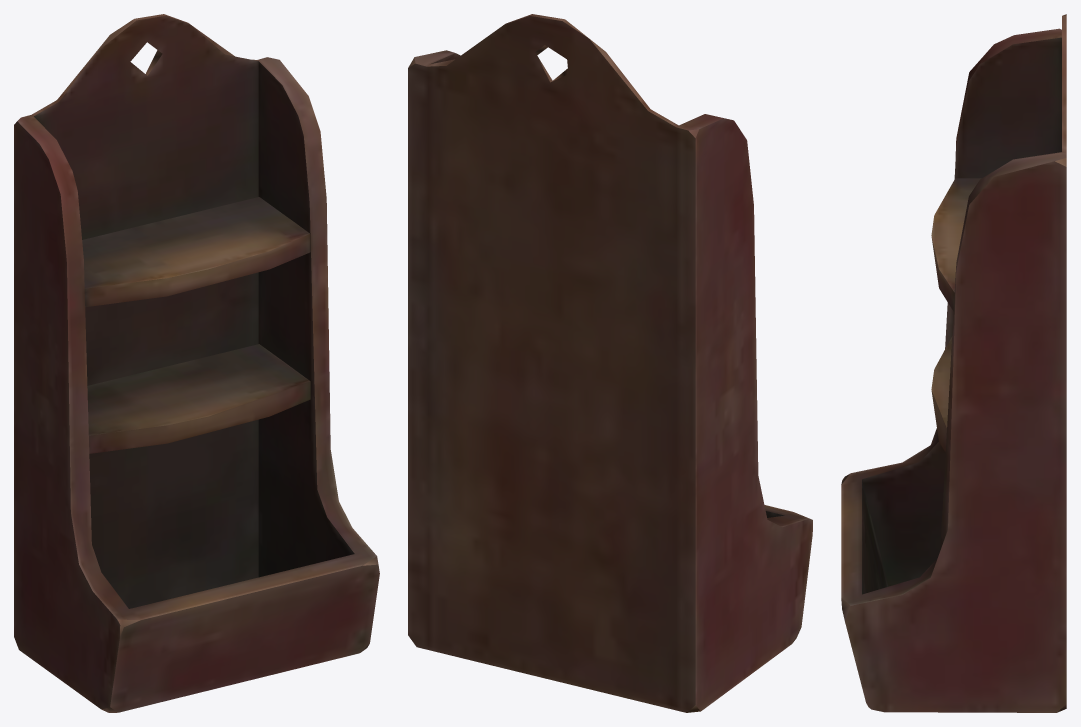
File: painted_wooden_shelves_lod1.glb
The picture shows the model from 3 angles, left to right: view 1: azimuth 30°, elevation 25°; view 2: azimuth 150°, elevation 25°; view 3: azimuth 270°, elevation 25°; orthographic projection. The views are drawn at different scales.
Parts seen in each view (by area): view 1: painted_wooden_shelves; view 2: painted_wooden_shelves; view 3: painted_wooden_shelves.
Boxes of the visible parts, bbox=[...] form: painted_wooden_shelves: bbox=[14, 14, 379, 712]; painted_wooden_shelves: bbox=[408, 14, 812, 712]; painted_wooden_shelves: bbox=[841, 14, 1066, 712].
Size of the model in its own units: 0.5111 by 1.12 by 0.3672.
Materials: 1 (1 with a texture image).
